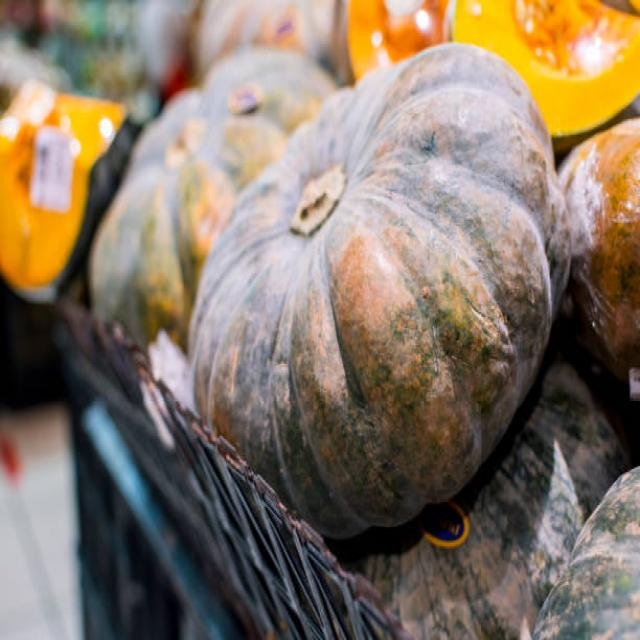pumpkin: (189, 47, 562, 520), (534, 0, 640, 132)
